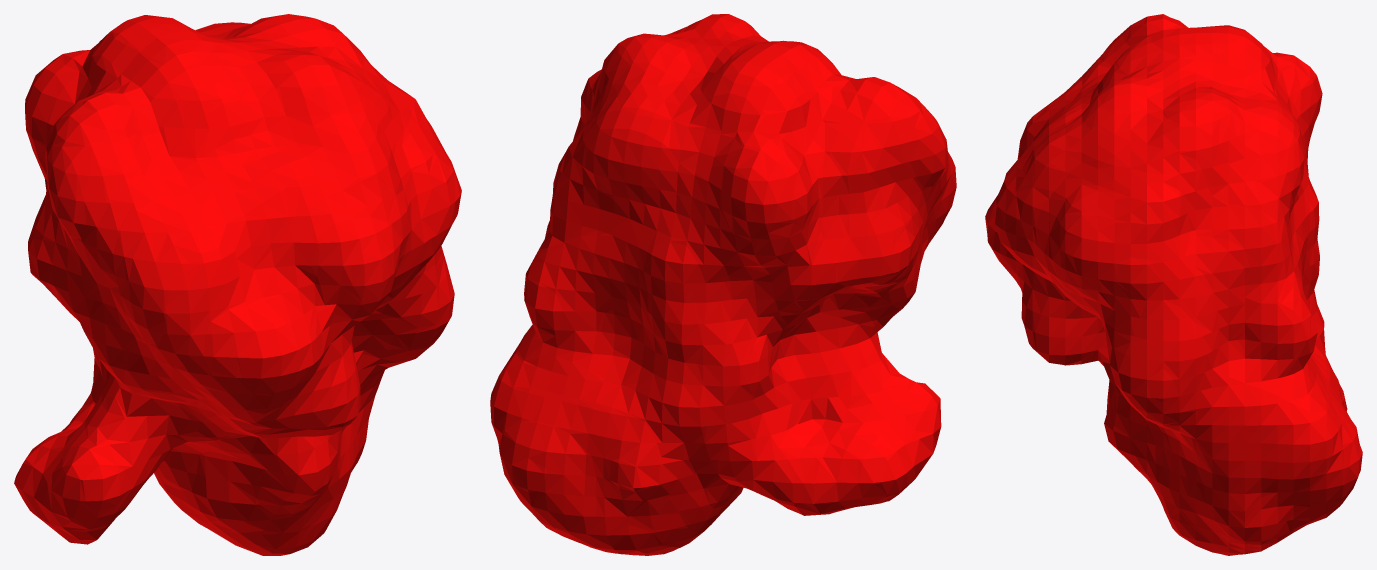
File: sbcD_coarse.dae
3 renders of one model, left to right at view 1: azimuth 30°, elevation 25°; view 2: azimuth 150°, elevation 25°; view 3: azimuth 270°, elevation 25°, orthographic. The views are drawn at different scales.
Visible parts, largest first — view 1: sbcD; view 2: sbcD; view 3: sbcD.
Boxes of the visible parts, <box> form: sbcD: <box>14,14,461,555</box>; sbcD: <box>490,14,956,555</box>; sbcD: <box>985,14,1362,555</box>.
Size of the model in its own units: 53.74 by 70.61 by 51.61.
